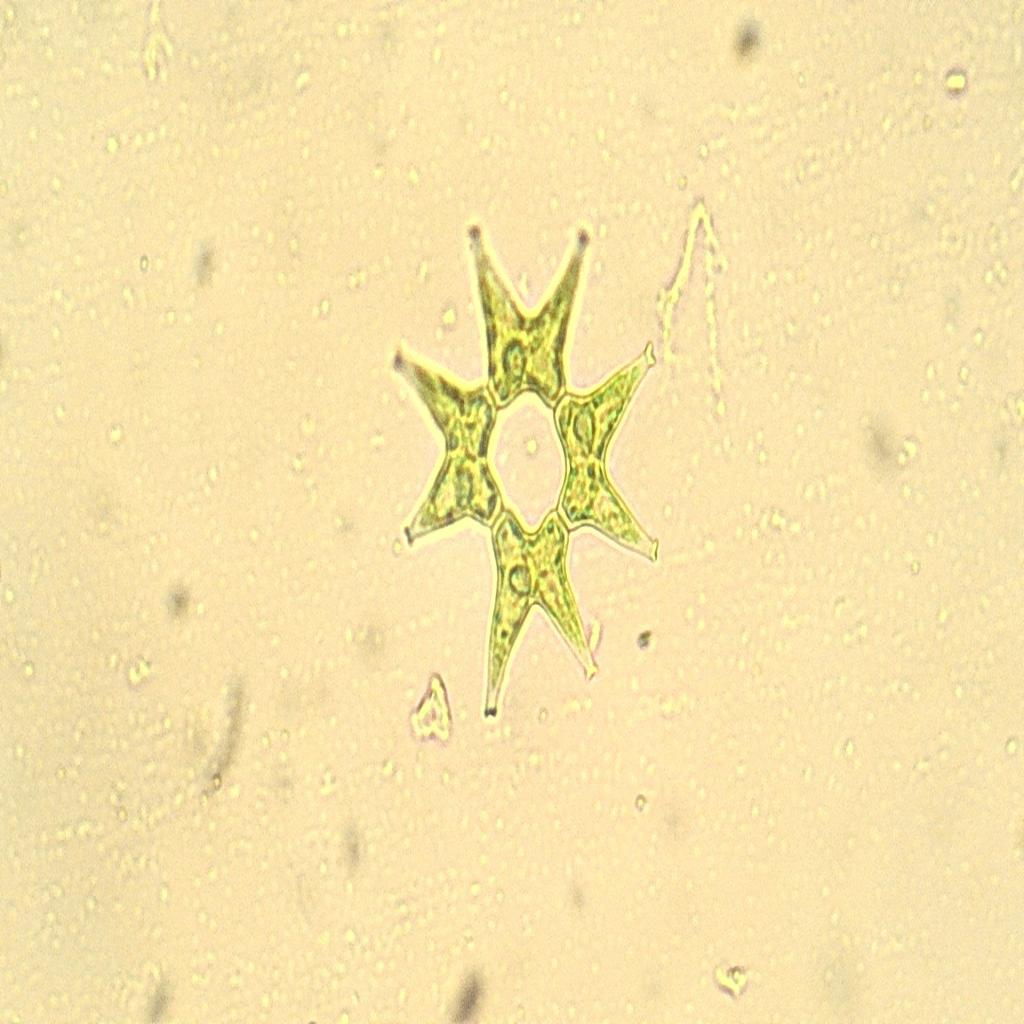Pediastrum_CO: (386, 216, 668, 735)
